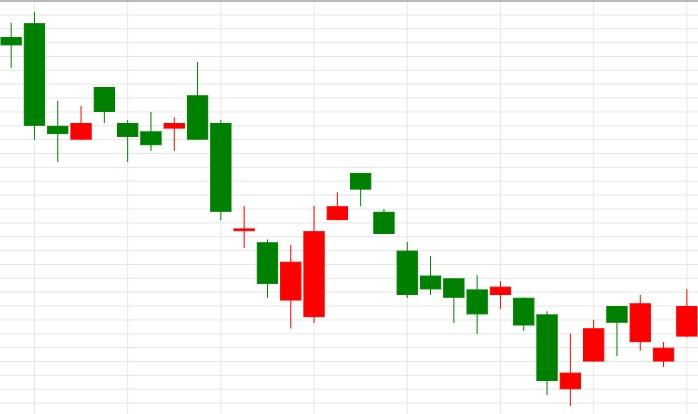hanging_man_fall: (559, 306, 629, 406)
three_black_crows_fall: (302, 172, 419, 323)
